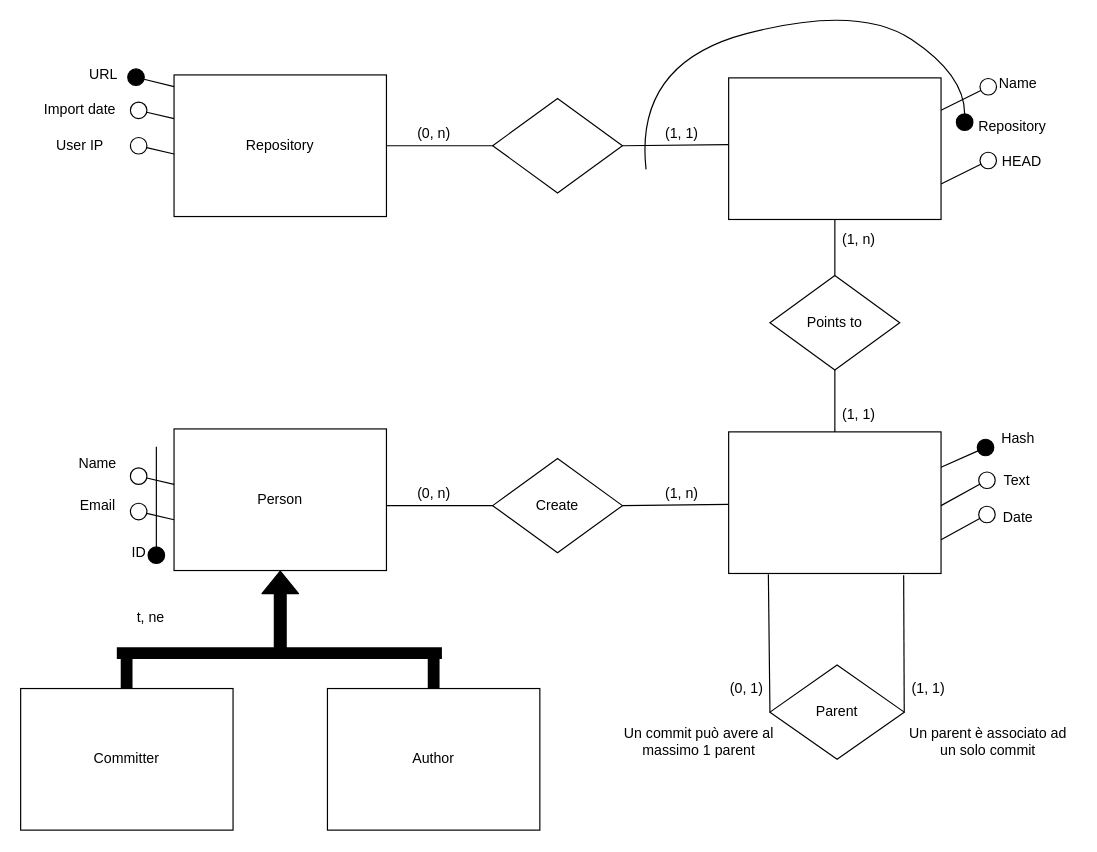
This 1097x852 diagram has some shape labels left out. Each missing label, with the centre of its shape:
Branch: the point at 834,148
Commit: the point at 834,502
Include: the point at 556,145
